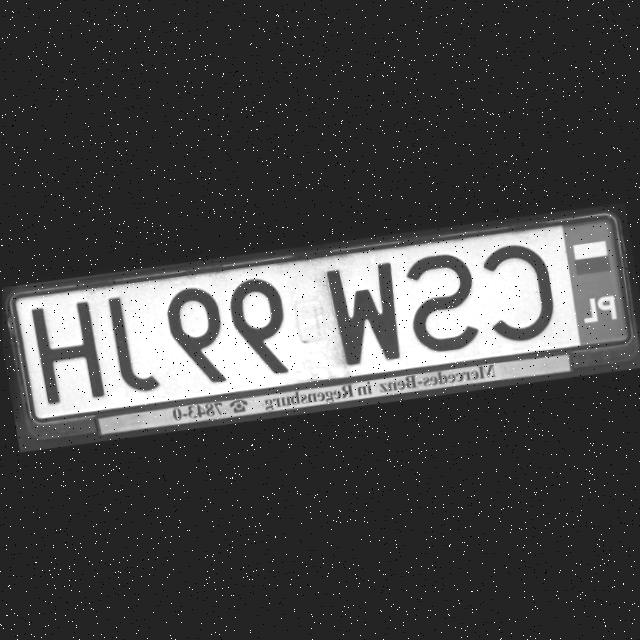license-plates: (12, 217, 631, 422)
